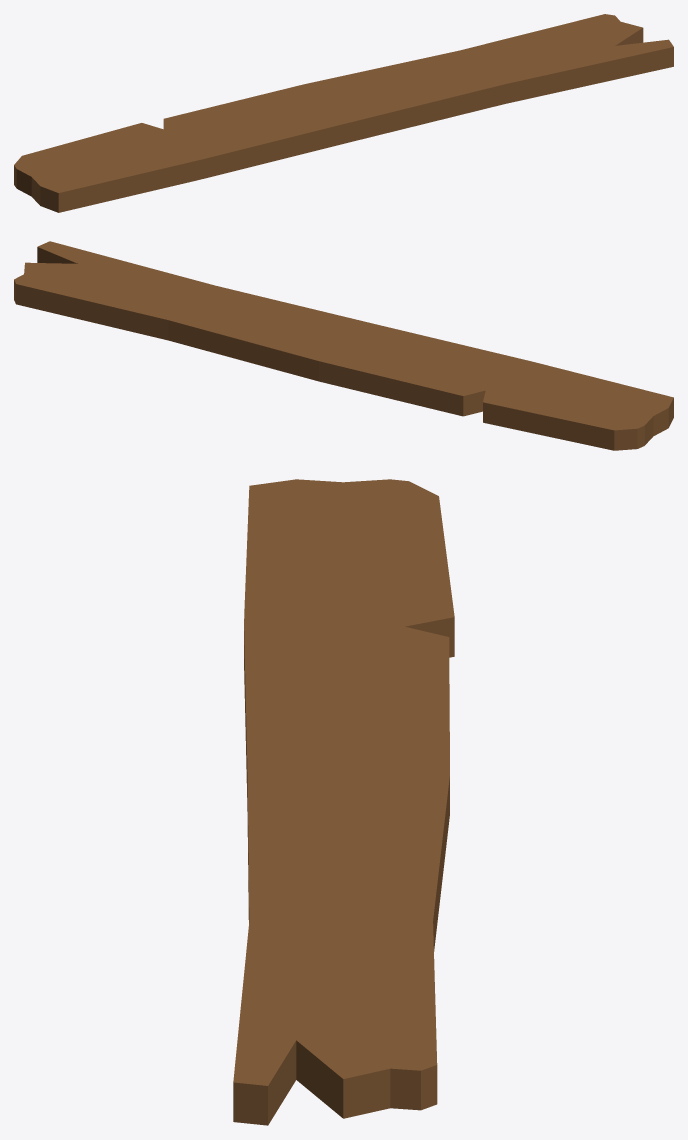
The model's file is WoodenPlank_03.fbx.
3 views of the same model, one above another, from view 1: azimuth 30°, elevation 25°; view 2: azimuth 150°, elevation 25°; view 3: azimuth 270°, elevation 25° (orthographic). The views are drawn at different scales.
Parts seen in each view (by area): view 1: WoodenPlank_03; view 2: WoodenPlank_03; view 3: WoodenPlank_03.
Part boxes in pixels (x1=…): WoodenPlank_03: x1=14, y1=14, x2=673, y2=212; WoodenPlank_03: x1=14, y1=241, x2=673, y2=450; WoodenPlank_03: x1=233, y1=479, x2=454, y2=1125.
Size of the model in its own units: 178 by 5.43 by 27.49.
